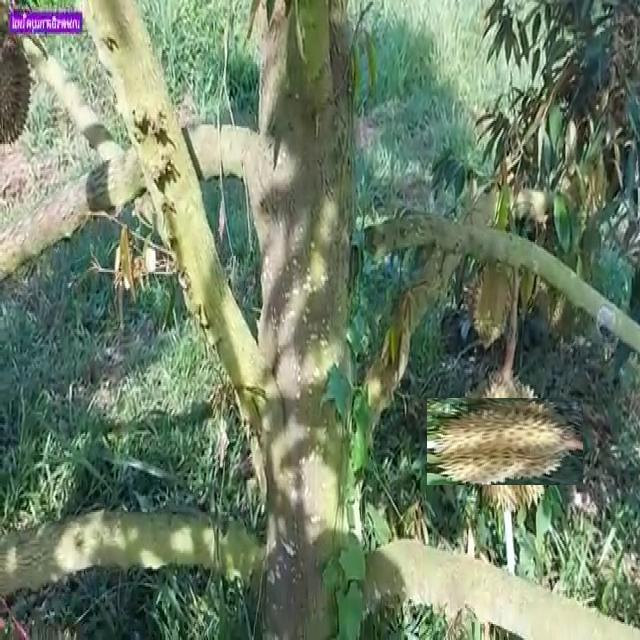durian: (444, 380, 566, 502), (469, 256, 524, 358)
